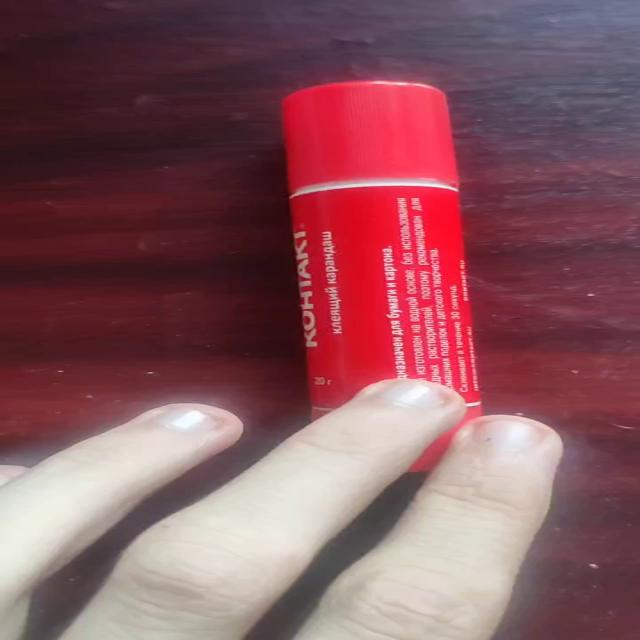glue: (280, 79, 484, 472)
